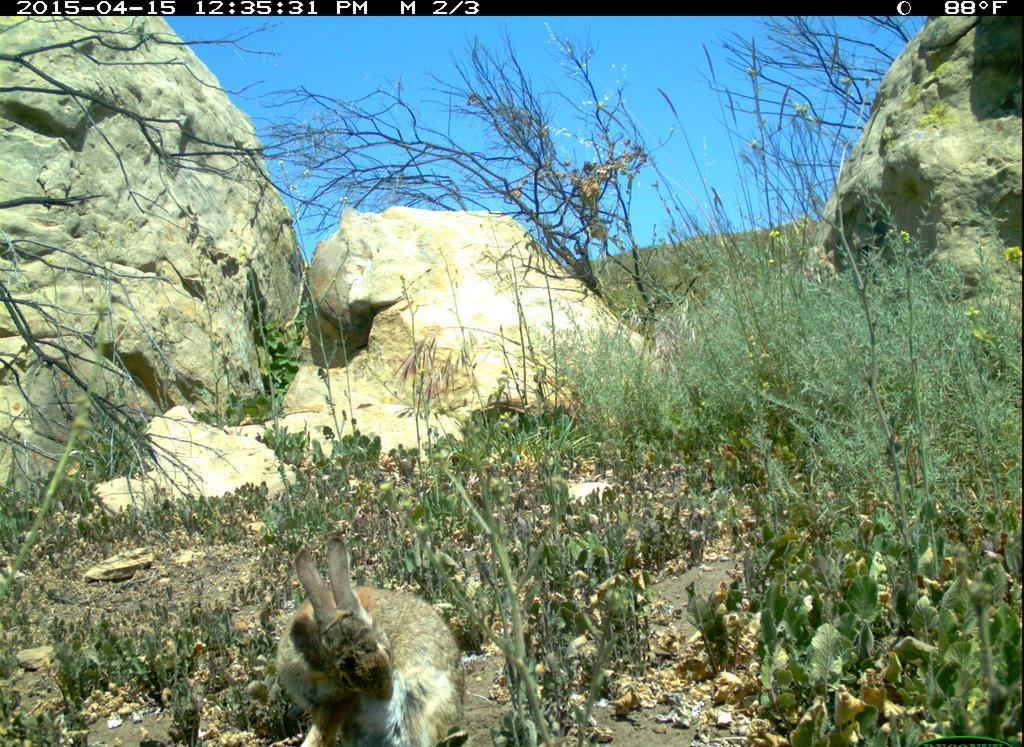rabbit: (263, 515, 478, 745)
